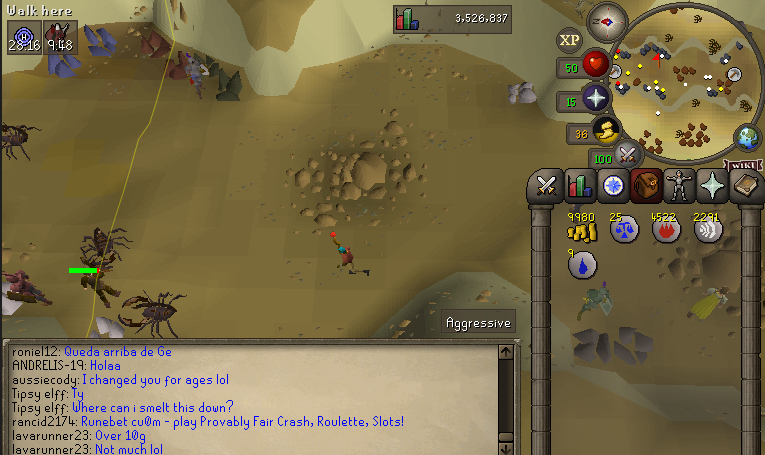iron: (158, 50, 195, 83), (139, 29, 173, 62)
